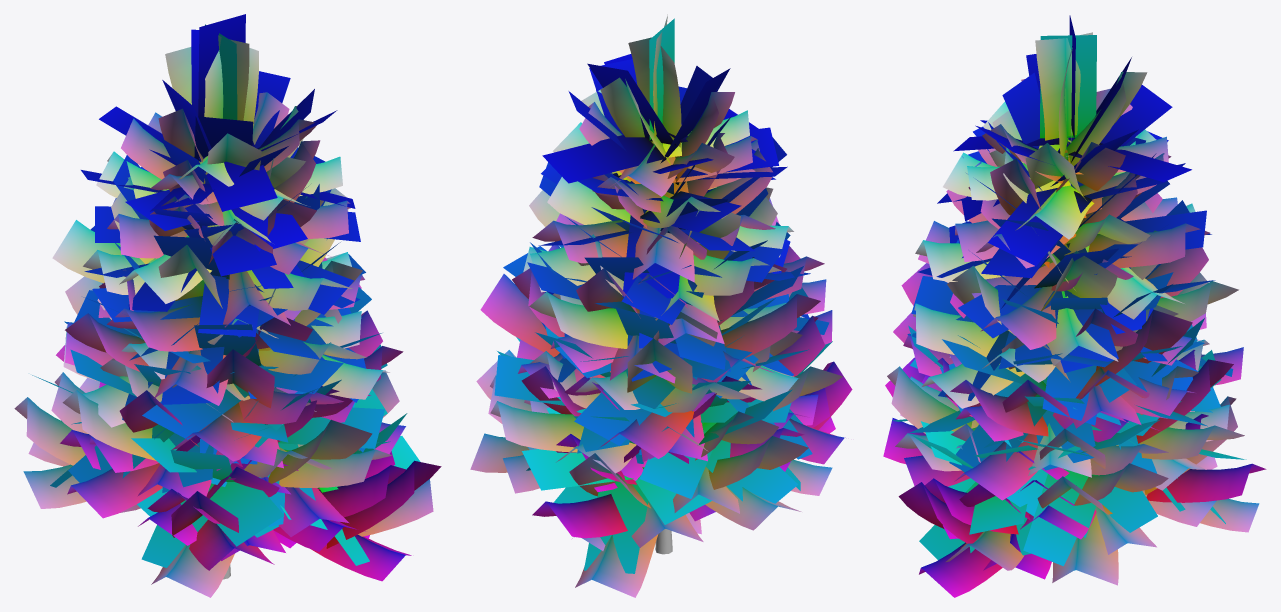
Rendered from spruce_01_3.fbx.
3 views of the same model, side by side, from view 1: azimuth 30°, elevation 25°; view 2: azimuth 150°, elevation 25°; view 3: azimuth 270°, elevation 25° (orthographic). The views are drawn at different scales.
Parts seen in each view (by area): view 1: spruce_leaves_01_3_lod_0, spruce_leaves_01_3_shadow; view 2: spruce_leaves_01_3_lod_0, spruce_leaves_01_3_shadow; view 3: spruce_leaves_01_3_lod_0, spruce_leaves_01_3_shadow.
Part boxes in pixels (x1=…): spruce_leaves_01_3_lod_0: x1=14, y1=35, x2=441, y2=597; spruce_leaves_01_3_shadow: x1=32, y1=14, x2=420, y2=567; spruce_leaves_01_3_lod_0: x1=470, y1=14, x2=852, y2=597; spruce_leaves_01_3_shadow: x1=494, y1=18, x2=832, y2=573; spruce_leaves_01_3_lod_0: x1=883, y1=32, x2=1266, y2=597; spruce_leaves_01_3_shadow: x1=892, y1=15, x2=1246, y2=570.
Size of what is drawn, in the model's own units: 5.44 by 8.12 by 5.24.
